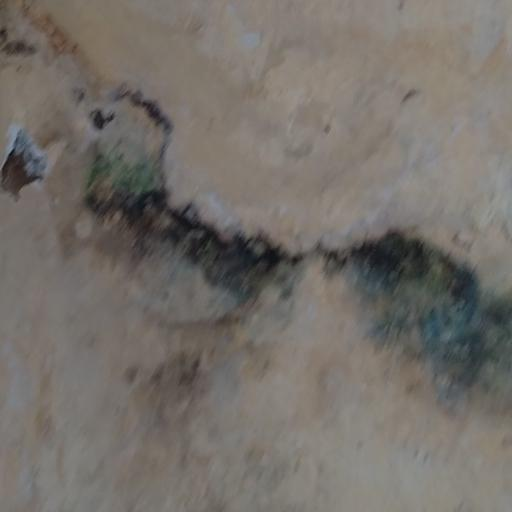algae: (105, 69, 512, 413)
